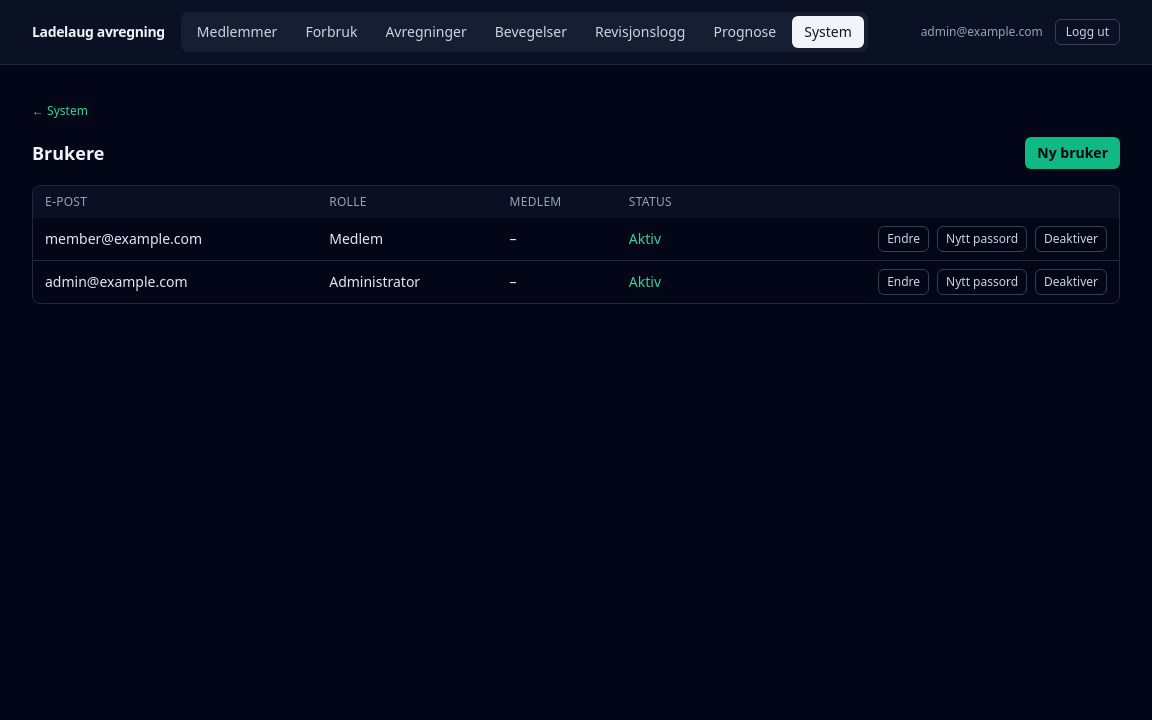
Test: Users (admin) › creates a member login and shows it in the list
The image size is (1152, 720).
Click the button "Ny bruker" at (1073, 153), box [1025, 137, 1120, 169]
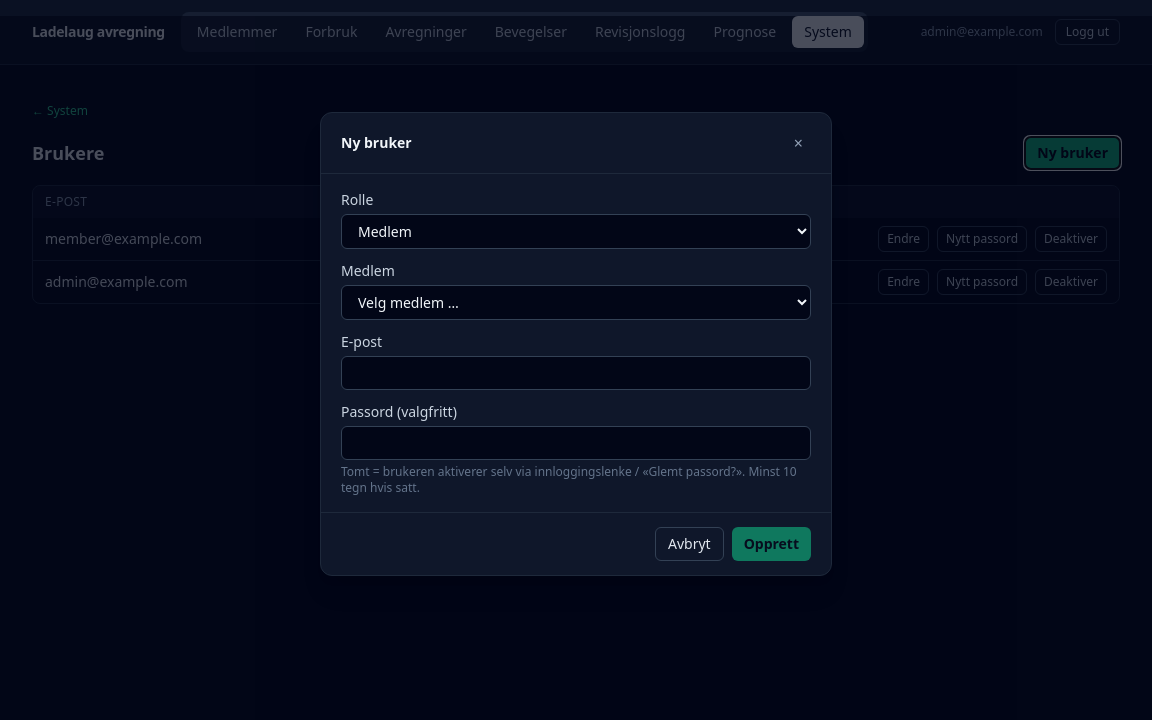
Select "M-55 – Kari Nordmann" in the dropdown labelled "Medlem" at (576, 302), box [341, 285, 811, 320]
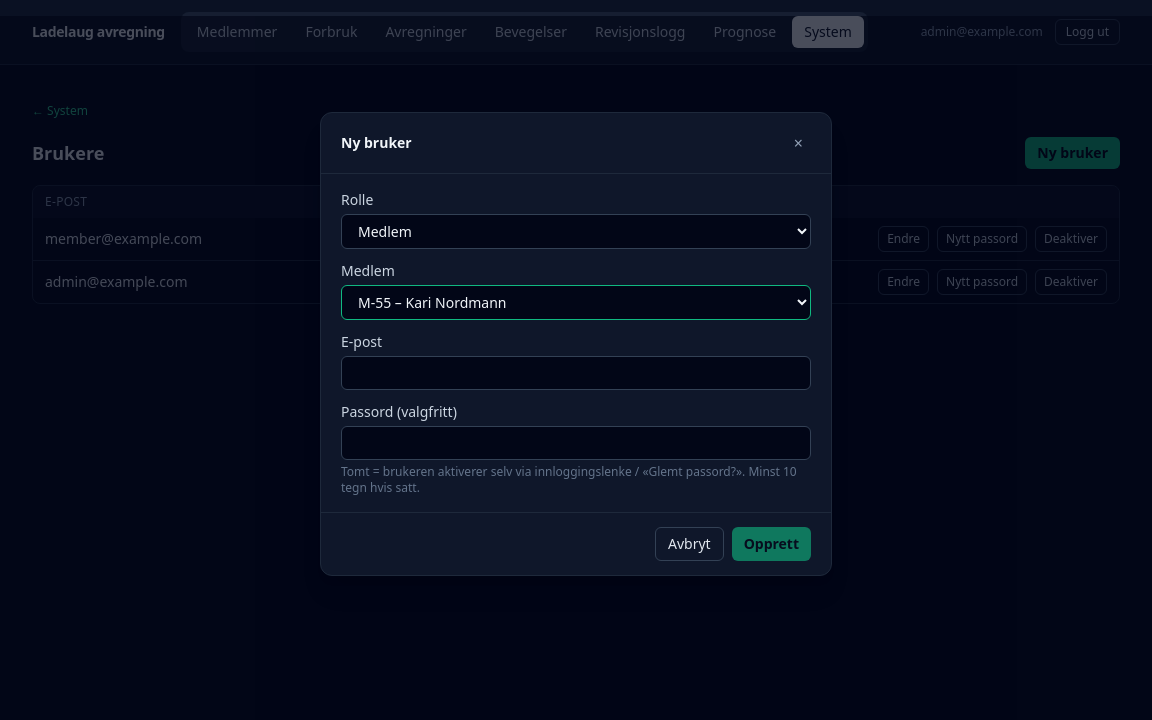
Type "kari@example.com" into the field labelled "E-post" at (576, 373), box [341, 356, 811, 390]
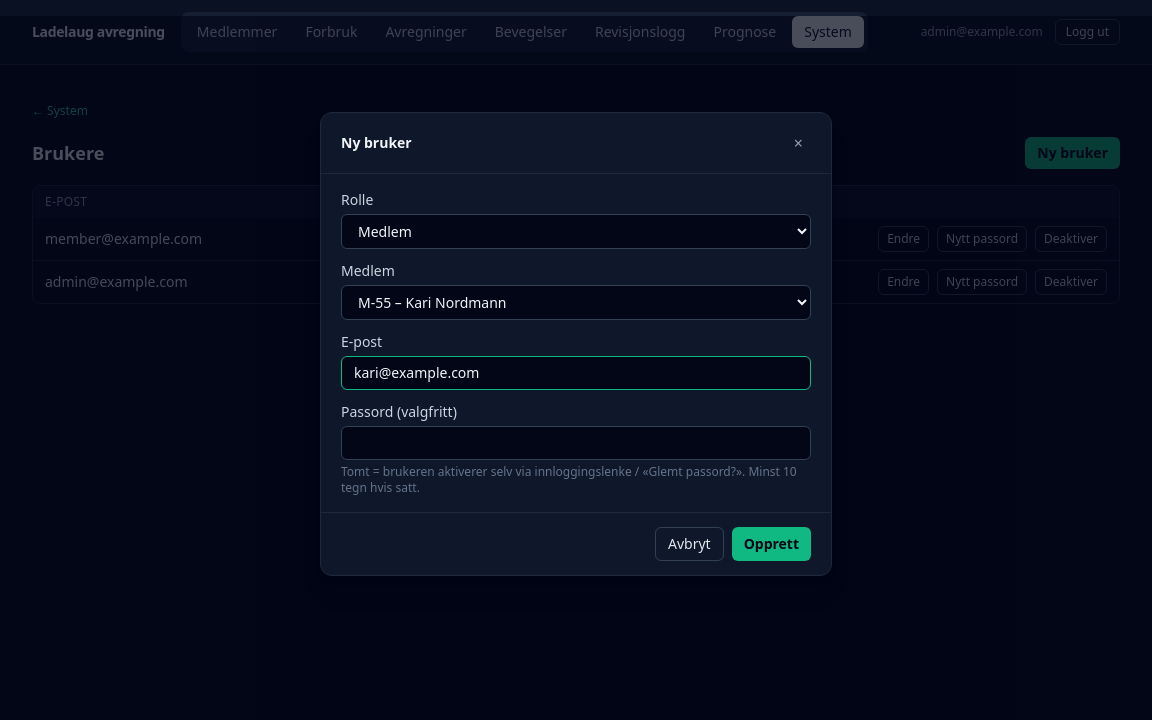
Click the button "Opprett" at (771, 544), box [732, 527, 811, 561]
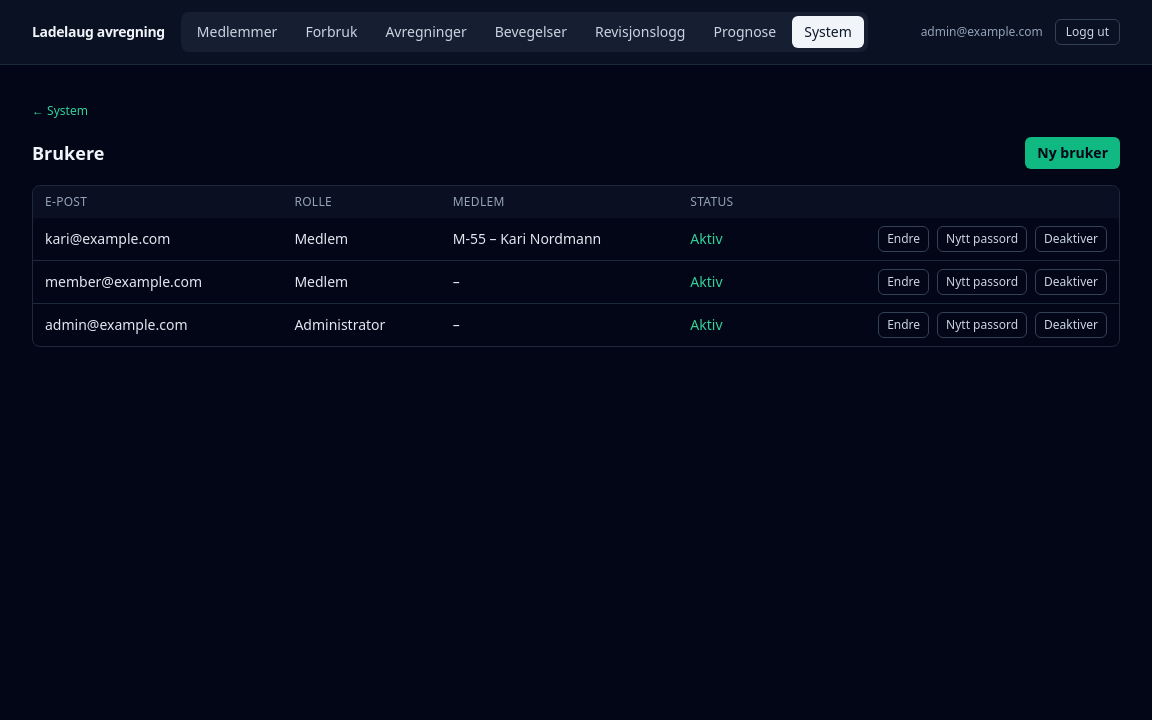
Expected: the text "Medlem" next to "kari@example.com" is shown, [294, 229, 348, 248]
Expected: the text "M-55 – Kari Nordmann" is shown, [441, 218, 678, 260]
